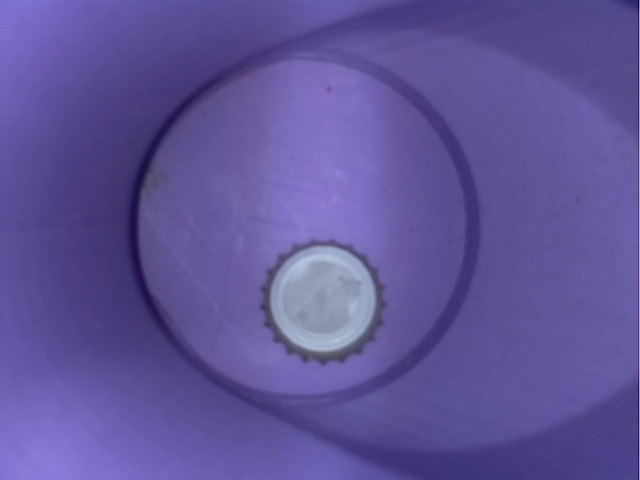capsule: (246, 232, 401, 374)
